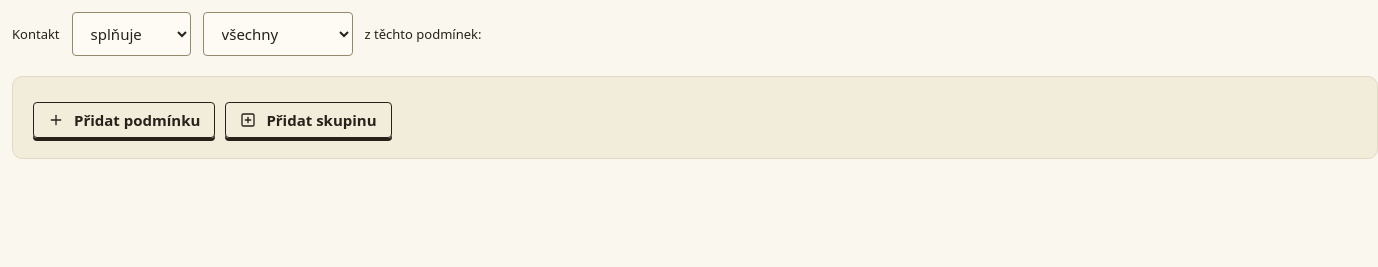
Test case: QueryBuilder › negující operátor nabídne doplnění podmínky na prázdnou hodnotu
Click the button "Přidat podmínku": (124, 120) [33,102,215,138]
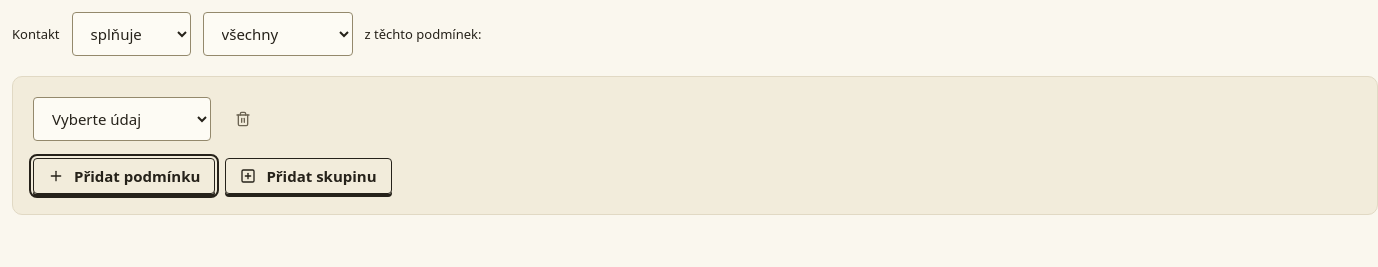
Select "Město" in the dropdown named "Vyberte údaj": (122, 119) [33,97,211,141]
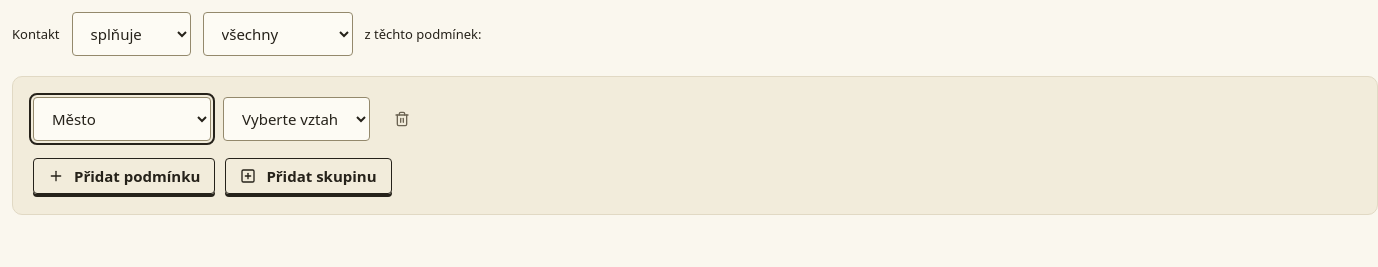
Select "není" in the dropdown named "Vyberte vztah": (296, 119) [223,97,370,141]
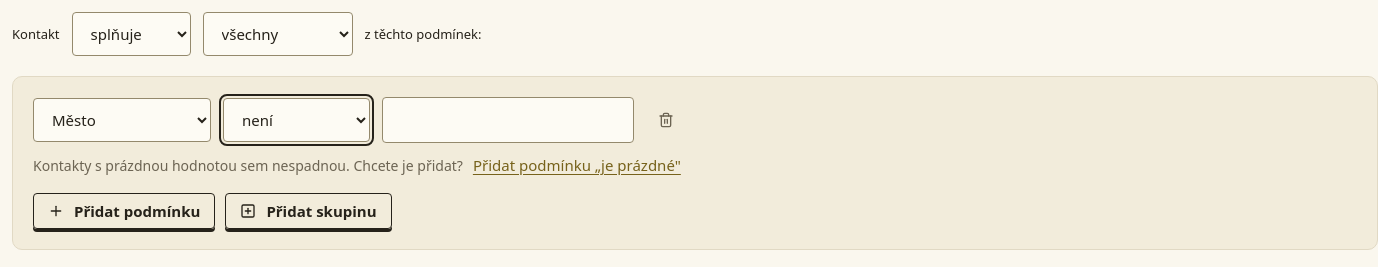
Expected: the text "Kontakty s prázdnou hodnotou sem nespadnou. Chcete je přidat?" is shown, [33,156,463,176]
Expected: the button "Přidat podmínku „je prázdné\"" is shown, [473,155,681,176]
